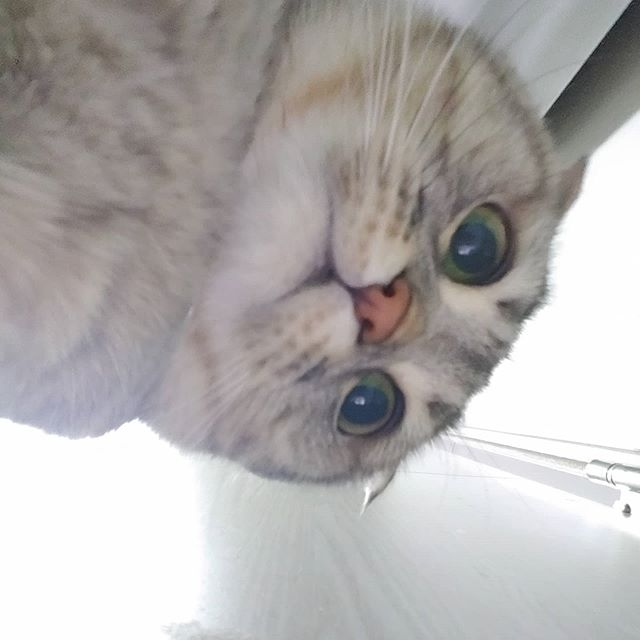cat: (117, 12, 590, 485)
